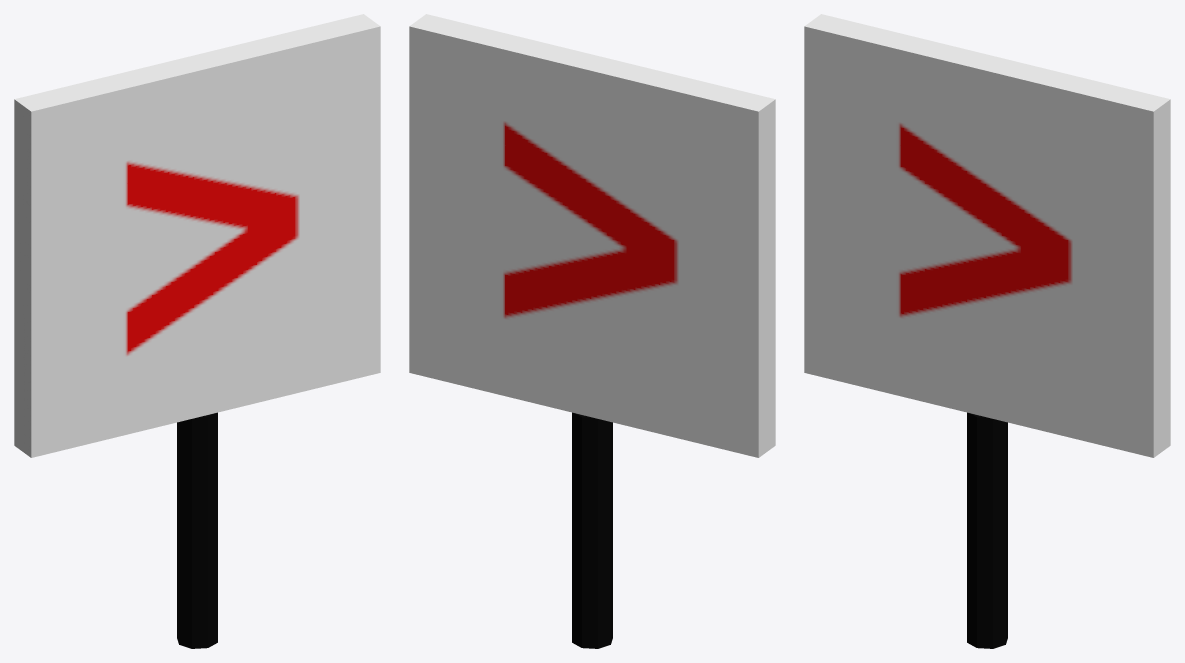
Rendered from arrow-sign.glb.
3 views of the same model, side by side, from view 1: azimuth 30°, elevation 25°; view 2: azimuth 150°, elevation 25°; view 3: azimuth 330°, elevation 25° (orthographic).
Visible parts, largest first — view 1: Cube, Cylinder; view 2: Cube, Cylinder; view 3: Cube, Cylinder.
Part boxes in pixels (left/top/right/bottom): Cube: left=14, top=14, right=380, bottom=457; Cylinder: left=177, top=412, right=217, bottom=648; Cube: left=409, top=14, right=775, bottom=457; Cylinder: left=572, top=412, right=612, bottom=648; Cube: left=804, top=14, right=1170, bottom=457; Cylinder: left=967, top=412, right=1007, bottom=648.
Bounding box in the file's own units: 1.9 × 3 × 0.2.
Materials: 2 (1 with a texture image).
